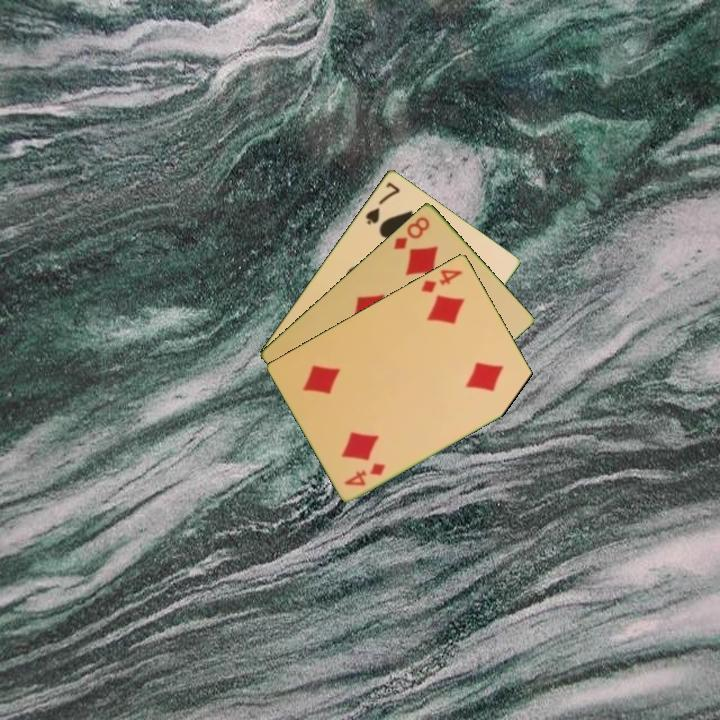4d: (417, 265, 466, 295), (341, 459, 389, 489)
7s: (362, 178, 403, 227)
8d: (390, 212, 432, 252)
